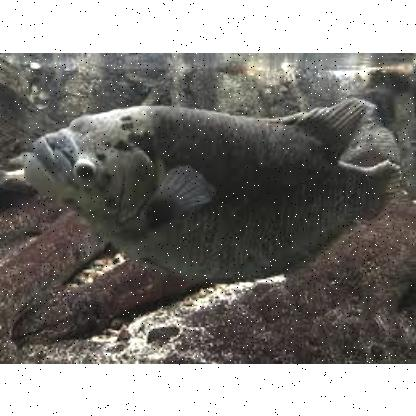gurame: (30, 98, 390, 276)
